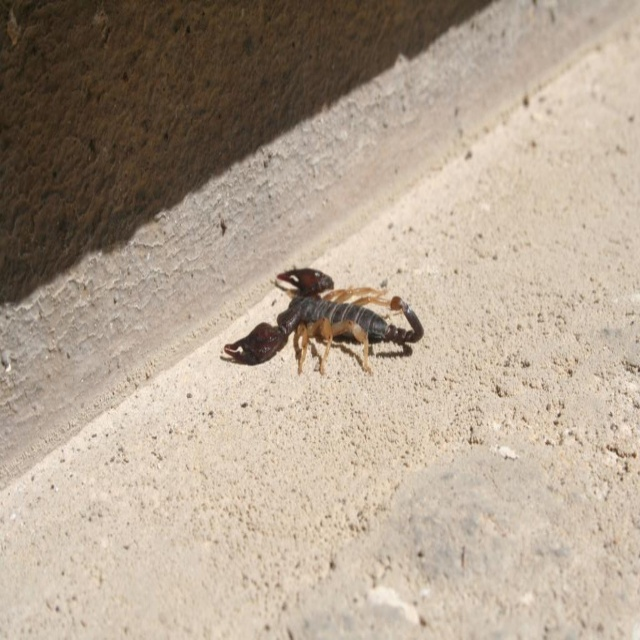Scorpion: (223, 259, 424, 375)
